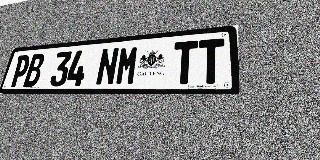3: (49, 51, 73, 86)
4: (65, 50, 89, 86)
B: (23, 53, 46, 87)
M: (115, 45, 140, 85)
N: (95, 47, 120, 86)
P: (9, 55, 32, 87)
T: (198, 38, 224, 84), (172, 40, 198, 84)
